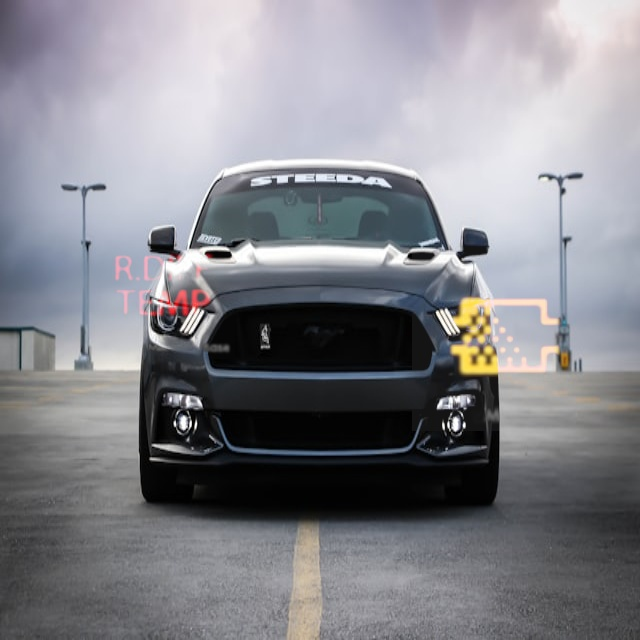symbol: (412, 243, 600, 431), (91, 215, 235, 359)
